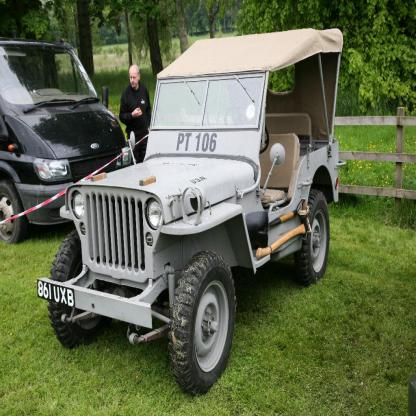Car: (1, 41, 132, 249)
